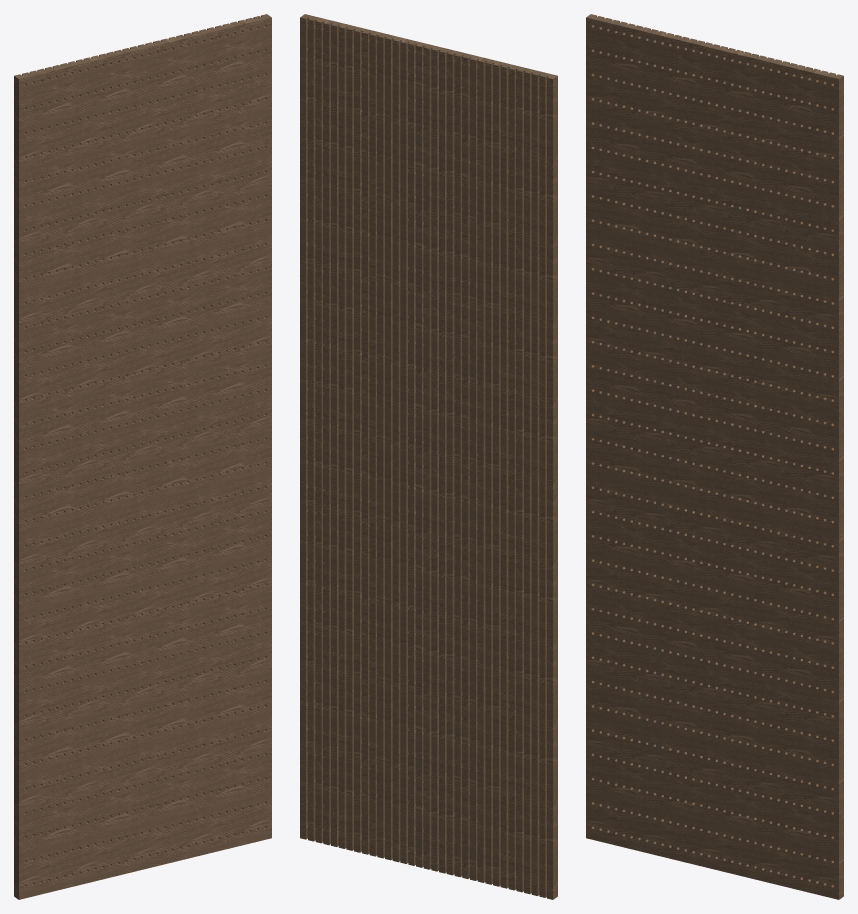
File: DSA 14_4.glb
3 views of the same model, side by side, from view 1: azimuth 30°, elevation 25°; view 2: azimuth 150°, elevation 25°; view 3: azimuth 330°, elevation 25° (orthographic).
Parts seen in each view (by area): view 1: DSA 14_4 v1; view 2: DSA 14_4 v1; view 3: DSA 14_4 v1.
Part boxes in pixels (bbox=[...]): DSA 14_4 v1: bbox=[14, 14, 271, 899]; DSA 14_4 v1: bbox=[300, 14, 557, 899]; DSA 14_4 v1: bbox=[586, 14, 843, 899].
Bounding box in the file's own units: 23.23 × 72 × 0.7515.
1 material, 1 textured.
